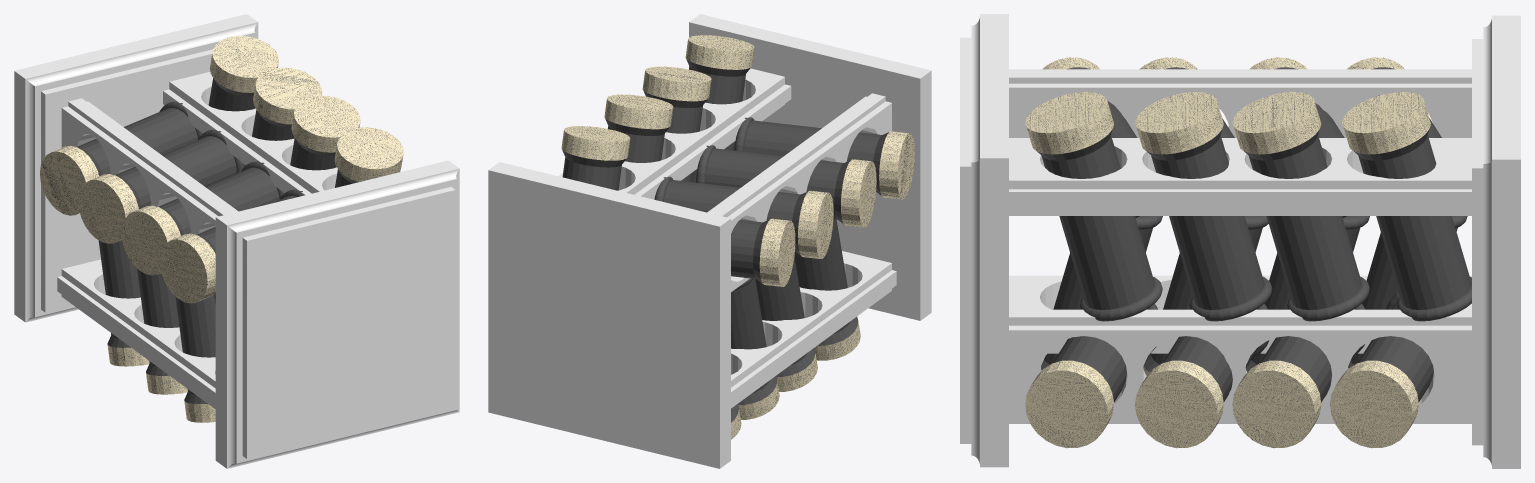
3 views of the same model, side by side, from view 1: azimuth 30°, elevation 25°; view 2: azimuth 150°, elevation 25°; view 3: azimuth 270°, elevation 25° (orthographic). The views are drawn at different scales.
Parts seen in each view (by area): view 1: spice rack; view 2: spice rack; view 3: spice rack.
Part boxes in pixels (x1,y1,x2,y2): spice rack: [14, 14, 459, 468]; spice rack: [488, 14, 931, 468]; spice rack: [960, 14, 1520, 468].
Size of the model in its own units: 8.39 by 8.27 by 11.5.
